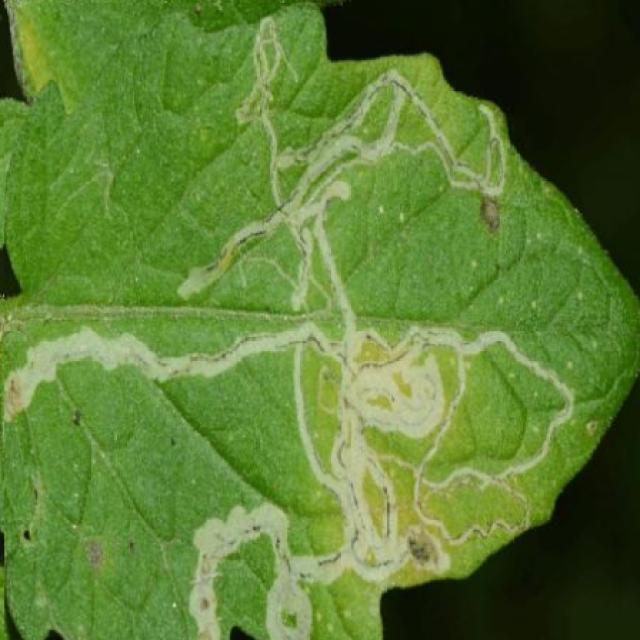Leaf Miner: (4, 3, 640, 640)
